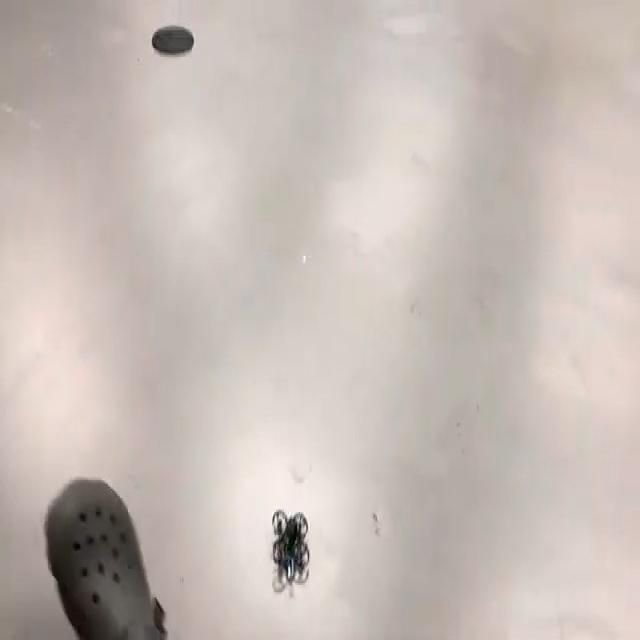drone: (259, 492, 315, 589)
